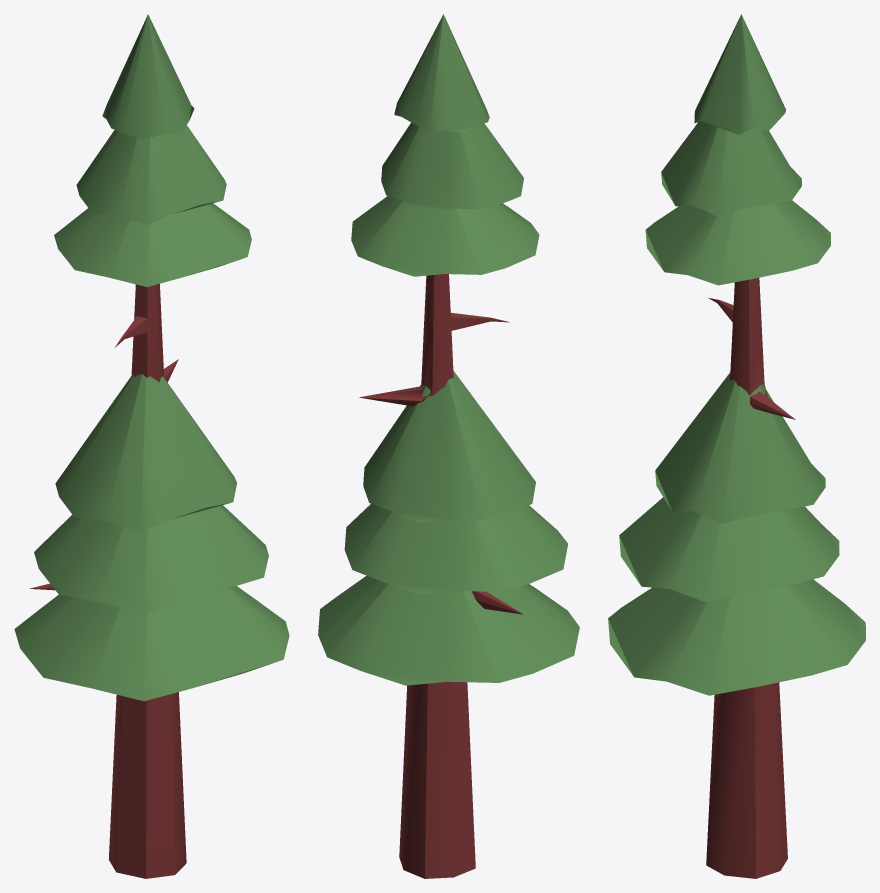
The model's file is pine_07.glb.
3 views of the same model, side by side, from view 1: azimuth 30°, elevation 25°; view 2: azimuth 150°, elevation 25°; view 3: azimuth 270°, elevation 25° (orthographic).
Visible parts, largest first — view 1: default6_Material_0; view 2: default6_Material_0; view 3: default6_Material_0.
Part boxes in pixels (x1,y1,x2,y2): default6_Material_0: (14,14,289,878); default6_Material_0: (318,14,579,878); default6_Material_0: (608,14,865,878).
Bounding box in the file's own units: 0.0331 × 0.1123 × 0.031.
1 material, 1 textured.
